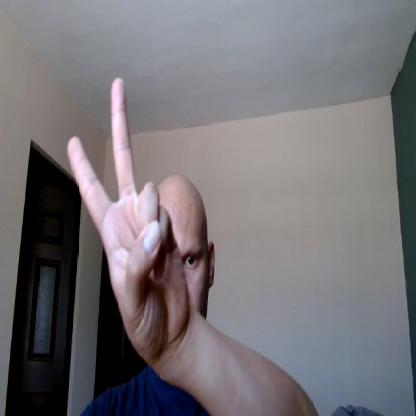V: (67, 77, 191, 356)
